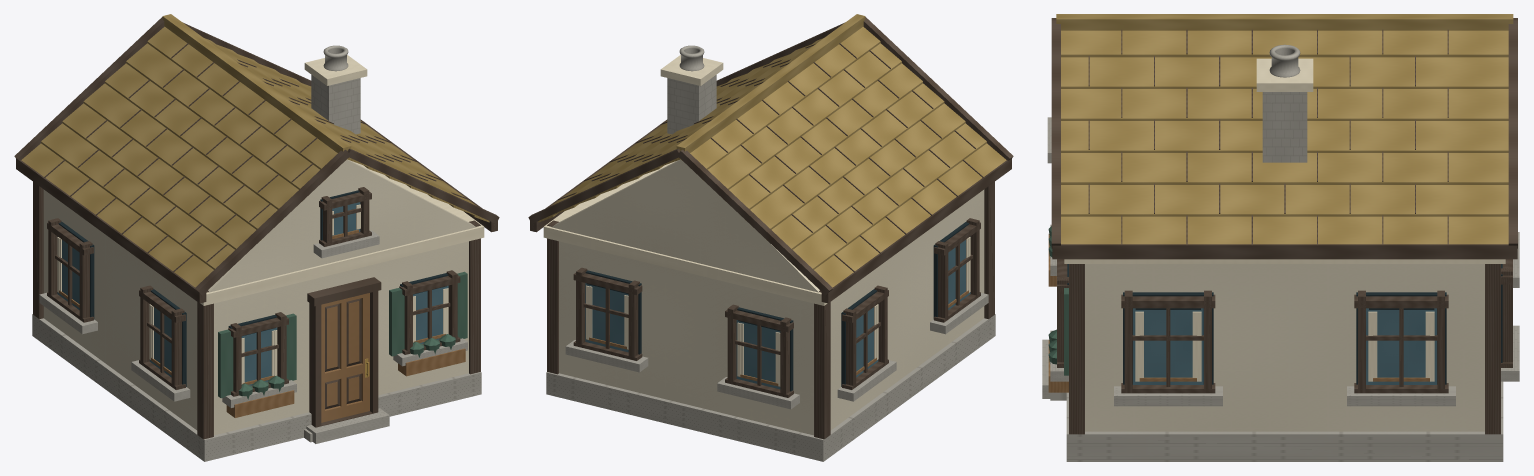
Rendered from cottage-crafted.glb.
The picture shows the model from 3 angles, left to right: view 1: azimuth 30°, elevation 25°; view 2: azimuth 150°, elevation 25°; view 3: azimuth 270°, elevation 25°; orthographic projection. The views are drawn at different scales.
Visible parts, largest first — view 1: cottage authored architecture; view 2: cottage authored architecture; view 3: cottage authored architecture.
Part boxes in pixels (left/top/right/bottom): cottage authored architecture: left=14, top=14, right=499, bottom=461; cottage authored architecture: left=528, top=14, right=1013, bottom=461; cottage authored architecture: left=1042, top=14, right=1519, bottom=461.
Size of the model in its own units: 4.62 by 4.33 by 5.
Materials: 1 (1 with a texture image).
